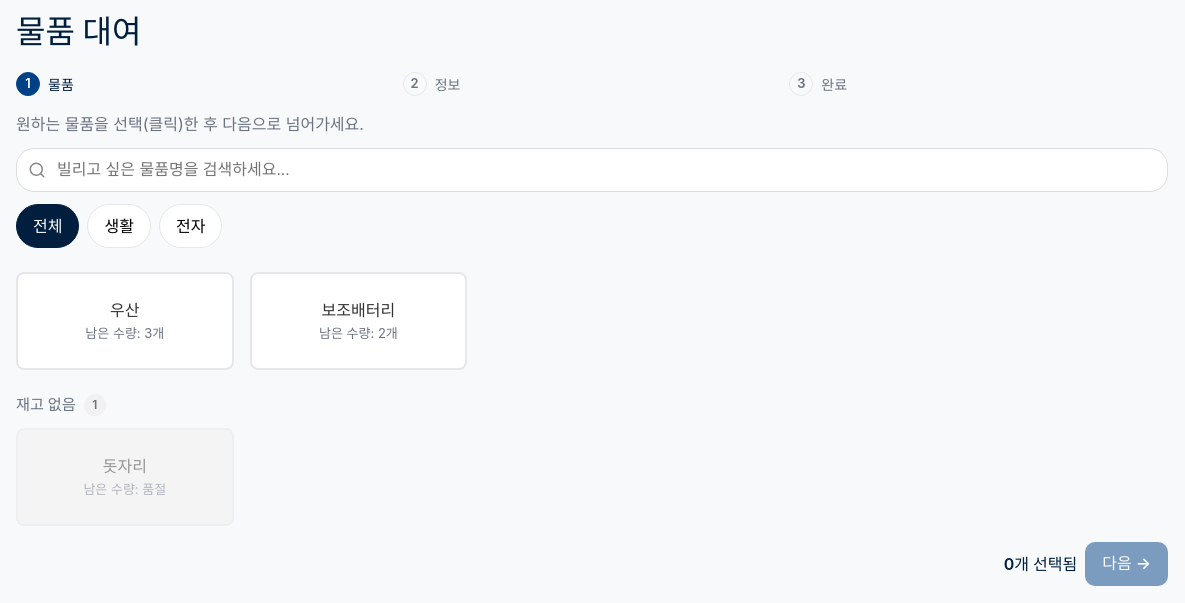
BorrowPage wizard › step1 next disabled until selection
The image size is (1185, 603).
Check: the button "다음 →" is disabled, box [1085,542,1168,586]
Step 1. Click the button "우산 남은 수량: 3개" → (125, 321), box [16,272,234,370]
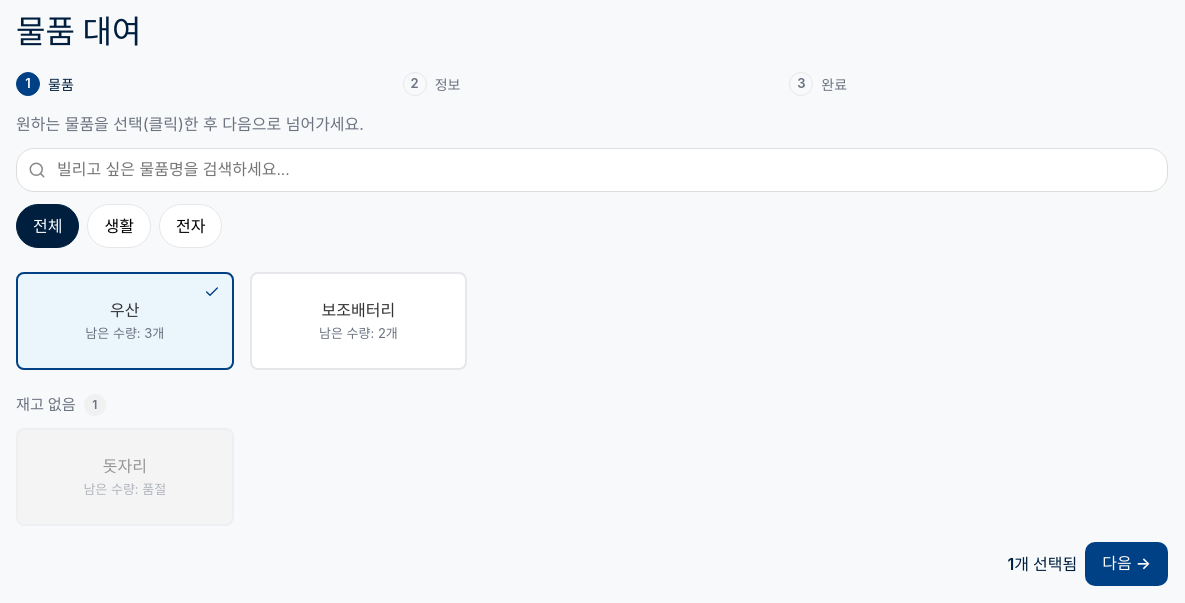
Check: the button "다음 →" is enabled, box [1085,542,1168,586]
Check: the text "1개 선택됨" is shown, box [1008,552,1077,576]
